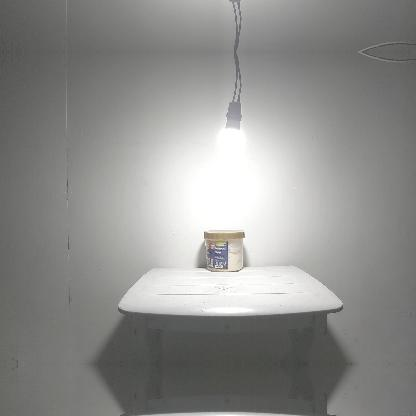Lady-s-Choice: (204, 229, 244, 271)
